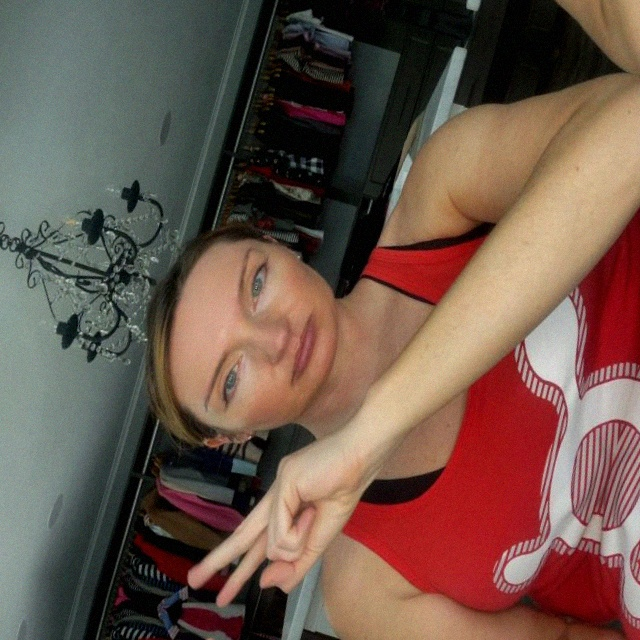Scissors: (179, 408, 378, 635)
